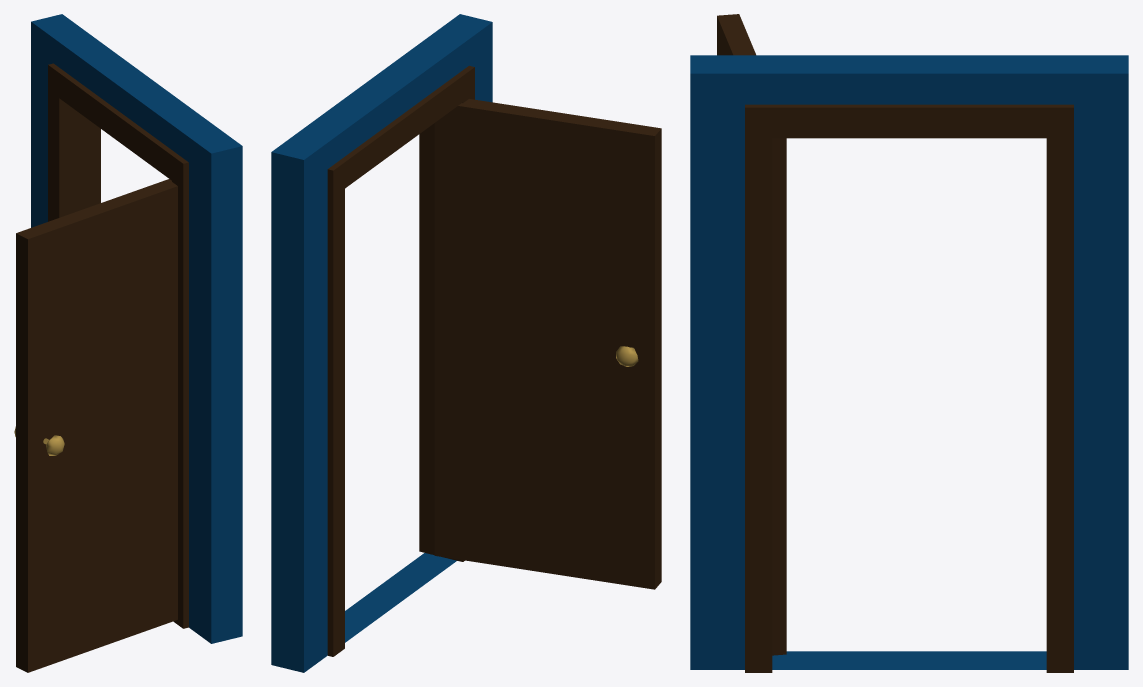
Rendered from Door.fbx.
The picture shows the model from 3 angles, left to right: view 1: azimuth 30°, elevation 25°; view 2: azimuth 150°, elevation 25°; view 3: azimuth 270°, elevation 25°; orthographic projection. The views are drawn at different scales.
Visible parts, largest first — view 1: Door, WallDoor; view 2: Door, WallDoor; view 3: WallDoor, Door.
Part boxes in pixels (x1,y1,x2,y2): Door: [14, 179, 177, 672]; WallDoor: [31, 14, 242, 643]; Door: [434, 99, 661, 589]; WallDoor: [271, 14, 492, 672]; WallDoor: [690, 55, 1128, 672]; Door: [717, 14, 786, 655].
Bounding box in the file's own units: 135 × 300 × 200.
